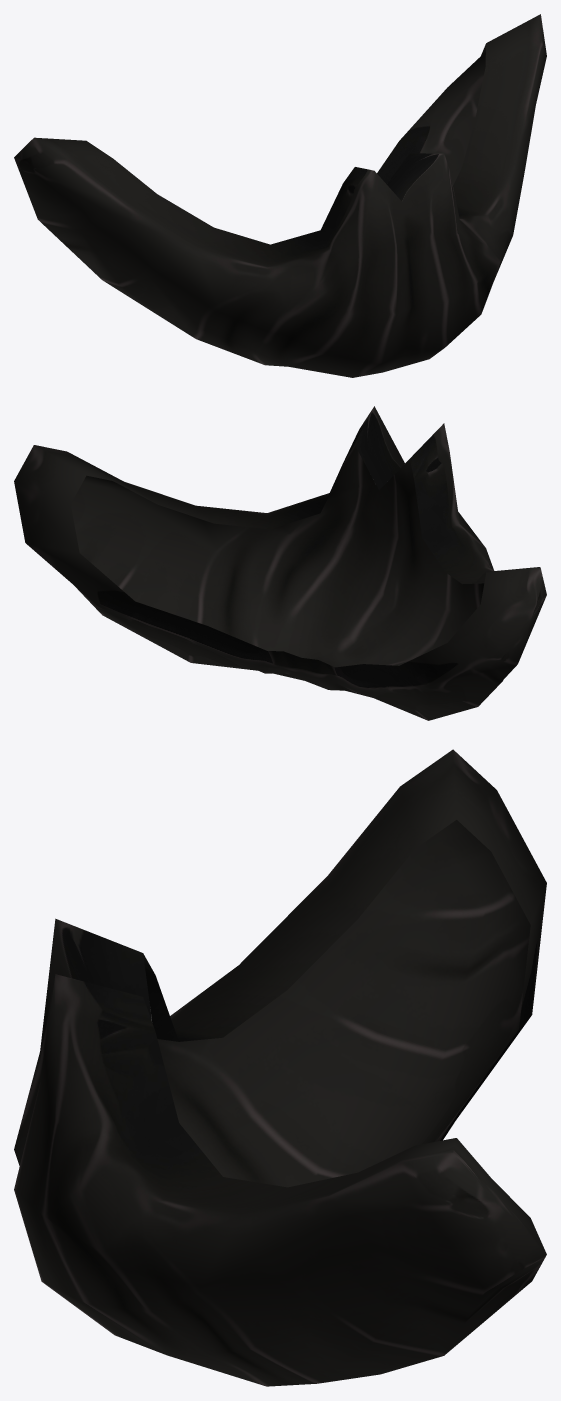
The model's file is beard3.fbx.
3 renders of one model, top to bottom at view 1: azimuth 30°, elevation 25°; view 2: azimuth 150°, elevation 25°; view 3: azimuth 270°, elevation 25°, orthographic. The views are drawn at different scales.
Visible parts, largest first — view 1: beard3; view 2: beard3; view 3: beard3.
Part boxes in pixels (bbox=[...]): beard3: bbox=[14, 14, 546, 377]; beard3: bbox=[14, 406, 546, 720]; beard3: bbox=[14, 749, 546, 1386].
Size of the model in its own units: 8.15 by 3.52 by 4.44.
